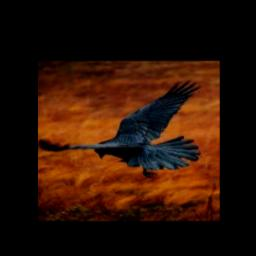Crow: (38, 79, 202, 177)
